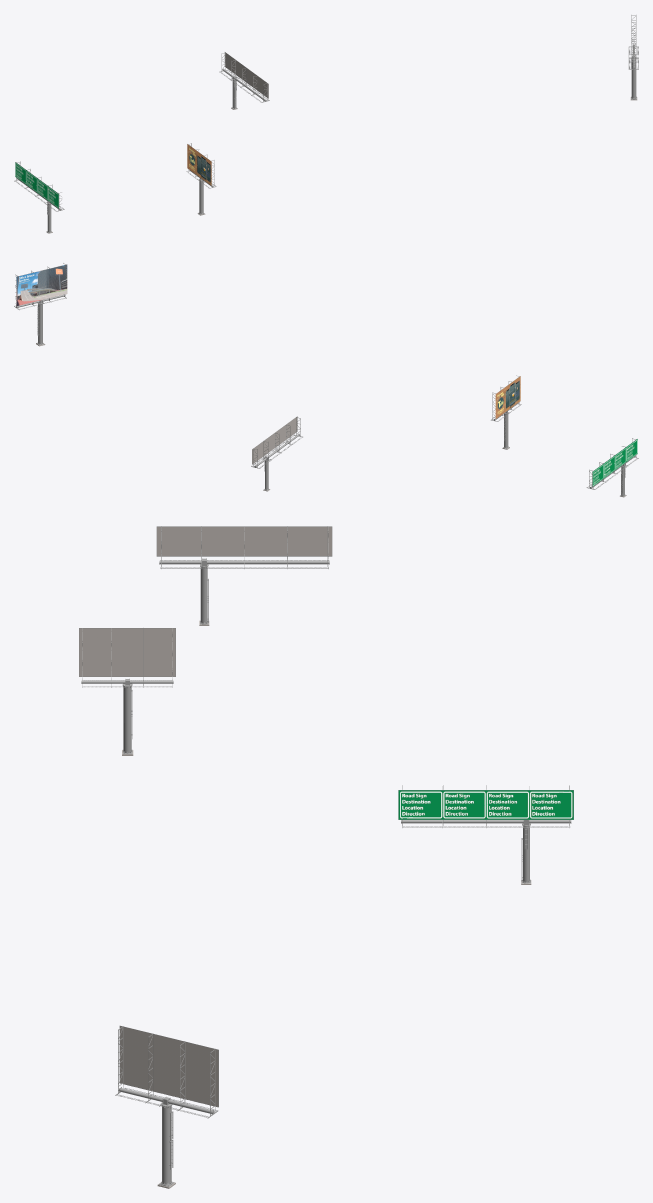
Rendered from billboardsb.glb.
3 renders of one model, top to bottom at view 1: azimuth 30°, elevation 25°; view 2: azimuth 150°, elevation 25°; view 3: azimuth 270°, elevation 25°, orthographic. The views are drawn at different scales.
Parts seen in each view (by area): view 1: cityblockassetkit; view 2: cityblockassetkit; view 3: cityblockassetkit.
Part boxes in pixels (x1,y1,x2,y2): cityblockassetkit: [14, 15, 638, 233]; cityblockassetkit: [14, 263, 638, 497]; cityblockassetkit: [79, 526, 573, 1188].
Size of the model in its own units: 179 by 21.01 by 64.53.
8 materials, 6 textured.
